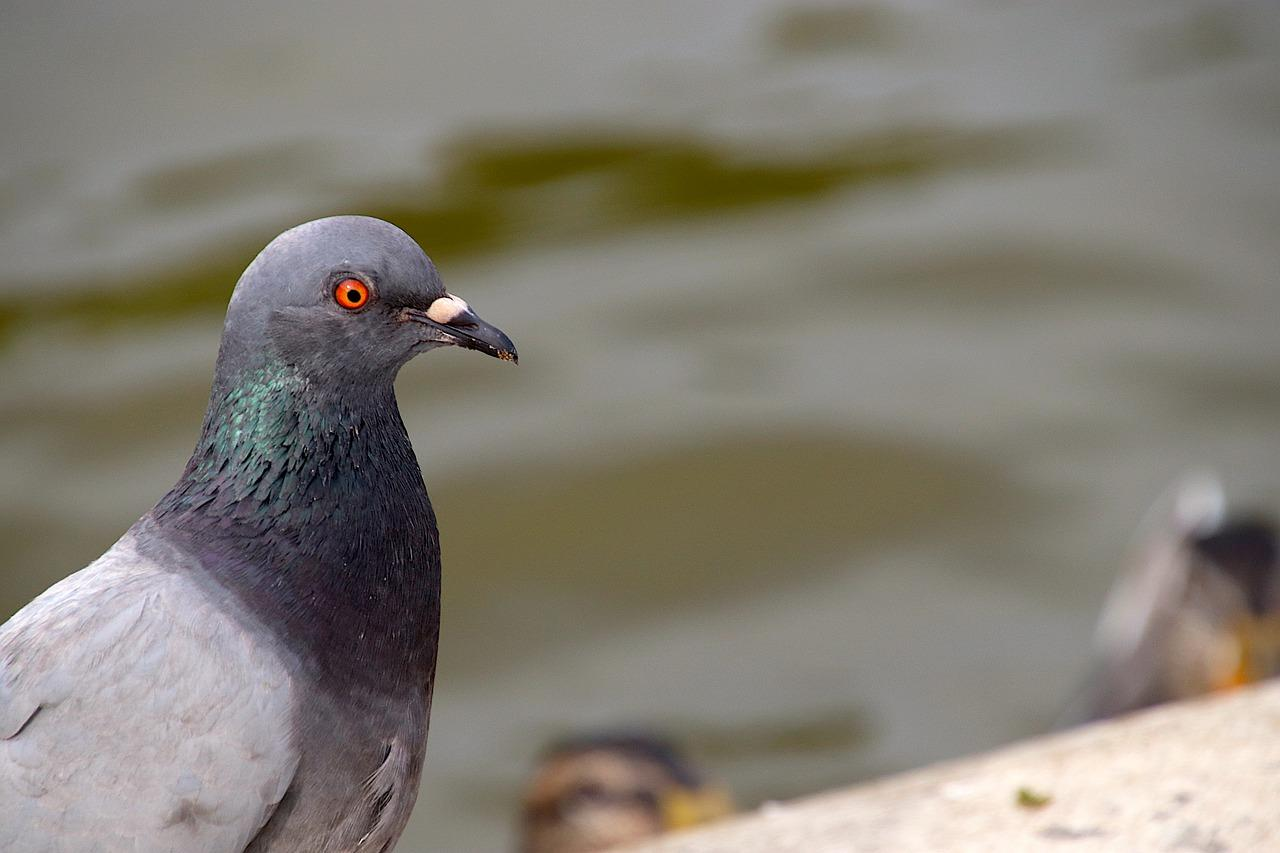Flying Rat: (1, 213, 535, 853)
